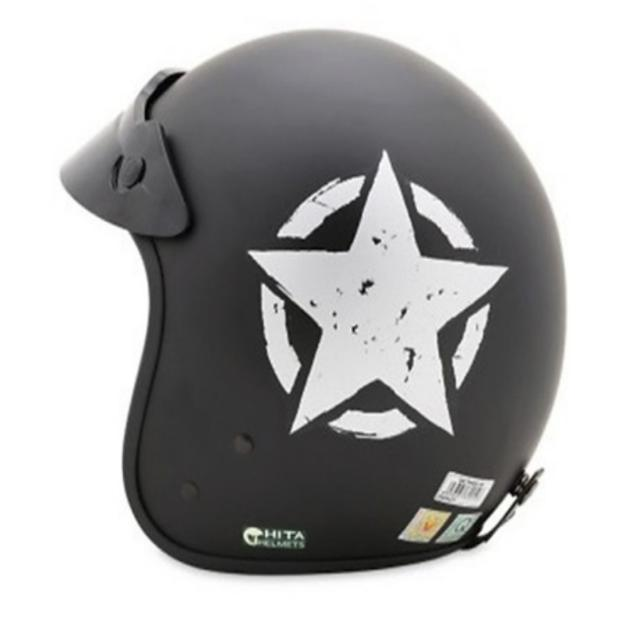Helmet: (56, 23, 574, 578)
